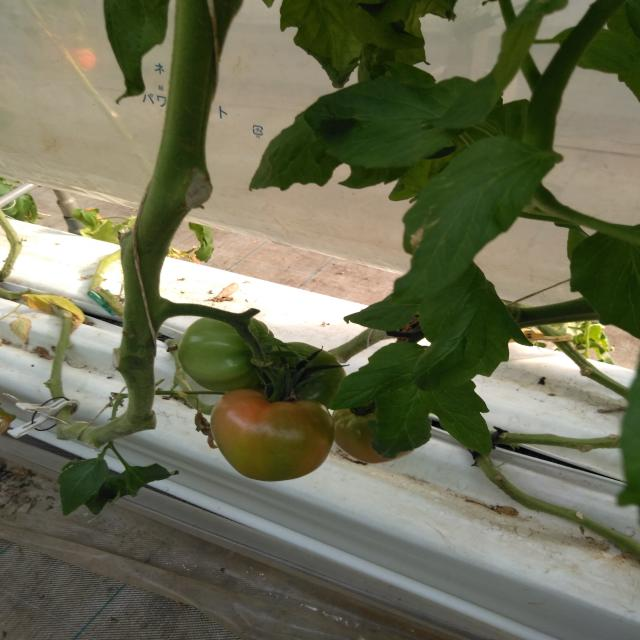n-half-riped: (210, 389, 334, 482), (331, 400, 415, 463)
n-unriped: (178, 314, 274, 391), (255, 342, 347, 410)
